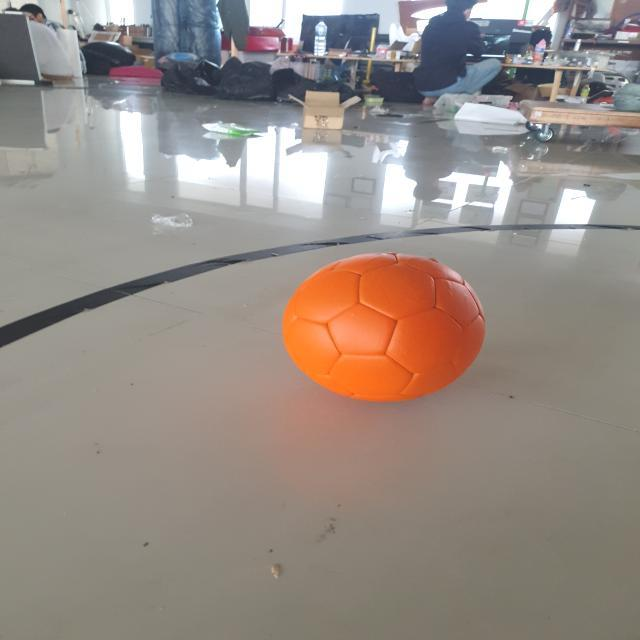bola: (244, 228, 510, 412)
